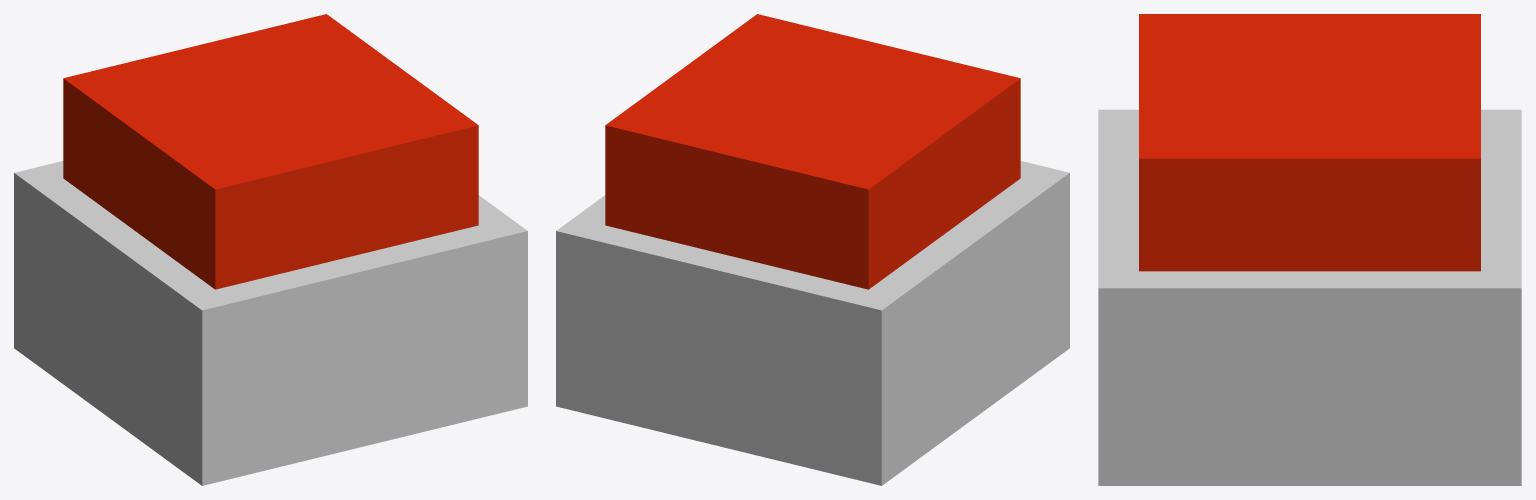
The model's file is Button.fbx.
3 views of the same model, side by side, from view 1: azimuth 30°, elevation 25°; view 2: azimuth 150°, elevation 25°; view 3: azimuth 270°, elevation 25° (orthographic). The views are drawn at different scales.
Visible parts, largest first — view 1: Cube; view 2: Cube; view 3: Cube.
Boxes of the visible parts, x1,y1,x2,y2 form: Cube: [14, 14, 527, 485]; Cube: [556, 14, 1069, 485]; Cube: [1098, 14, 1521, 485].
Size of the model in its own units: 247 by 200 by 247.
